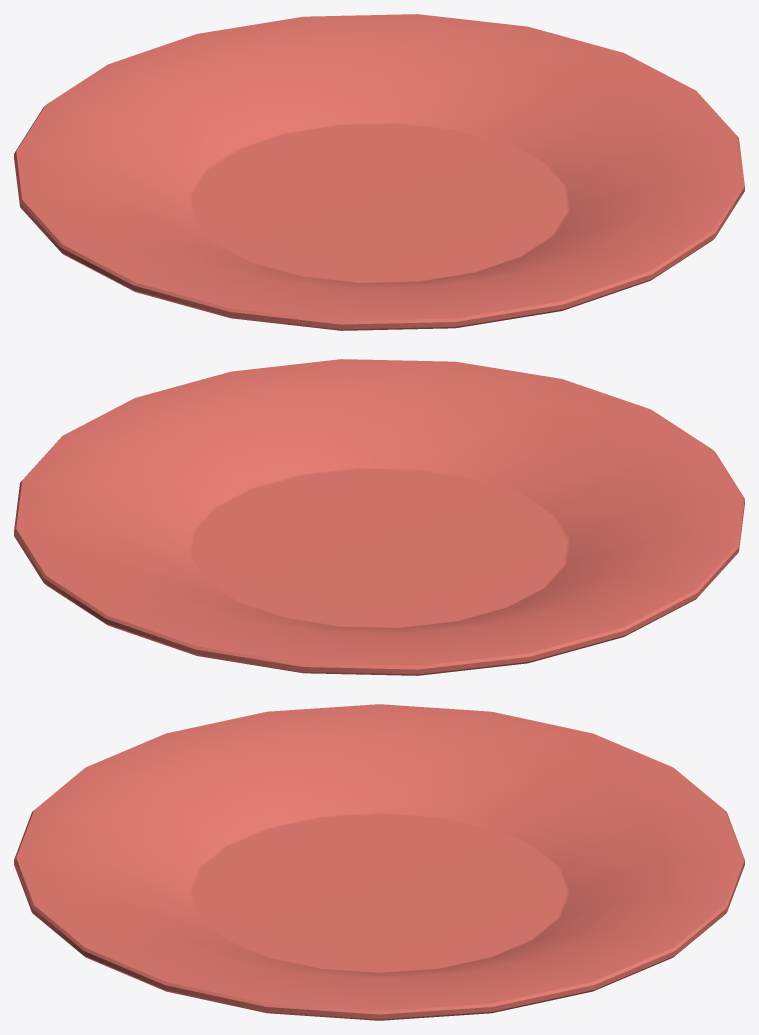
Rendered from masu2.fbx.
3 views of the same model, one above another, from view 1: azimuth 30°, elevation 25°; view 2: azimuth 150°, elevation 25°; view 3: azimuth 270°, elevation 25° (orthographic).
Visible parts, largest first — view 1: pCylinder1; view 2: pCylinder1; view 3: pCylinder1.
Part boxes in pixels (x1,y1,x2,y2): pCylinder1: (14, 14, 744, 330); pCylinder1: (14, 359, 744, 675); pCylinder1: (14, 704, 744, 1020).
Size of the model in its own units: 4.45 by 0.3029 by 4.45.
